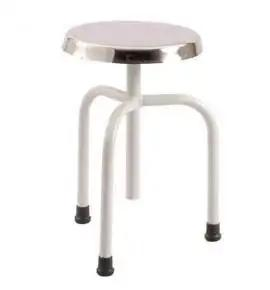stool: (61, 18, 222, 276)
